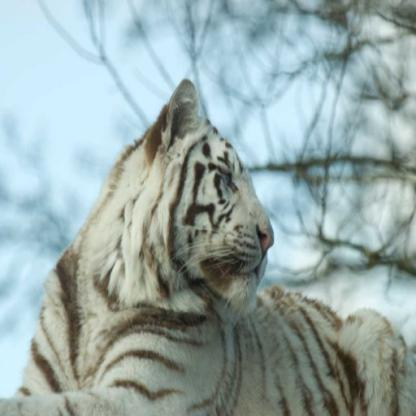Tiger: (0, 84, 415, 415)
